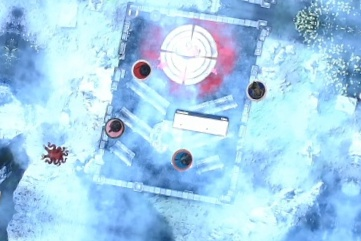blue: (243, 77, 270, 104)
giant_red_octopus: (40, 140, 67, 167)
light_blue_orange: (169, 144, 196, 170)
pink_green: (99, 114, 126, 141)
red: (127, 57, 154, 83)
